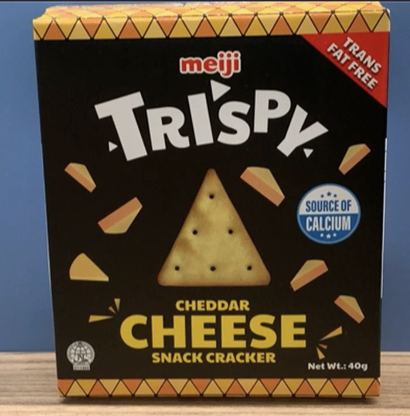crackers_50g: (62, 35, 380, 377)
